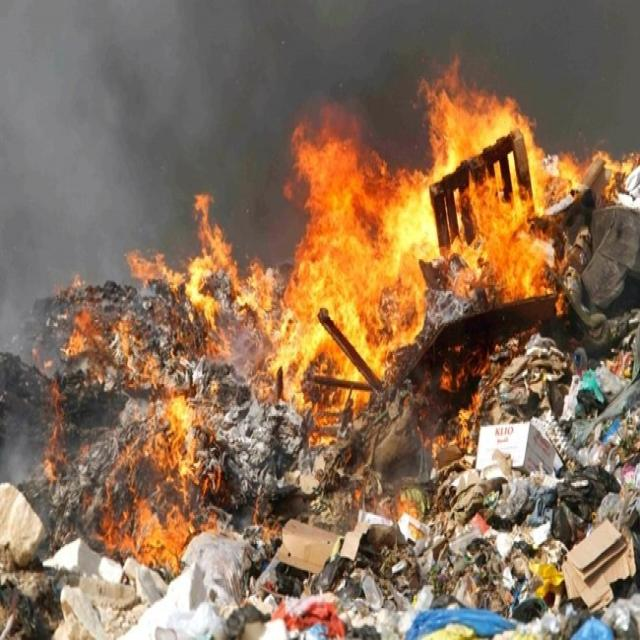fire: (410, 49, 640, 478), (44, 194, 282, 582), (285, 94, 411, 518)
